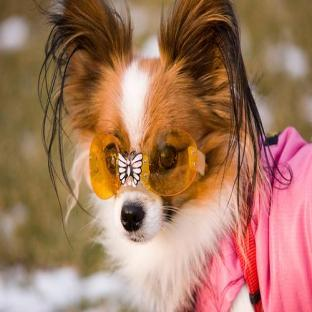Animal: (42, 0, 311, 311)
